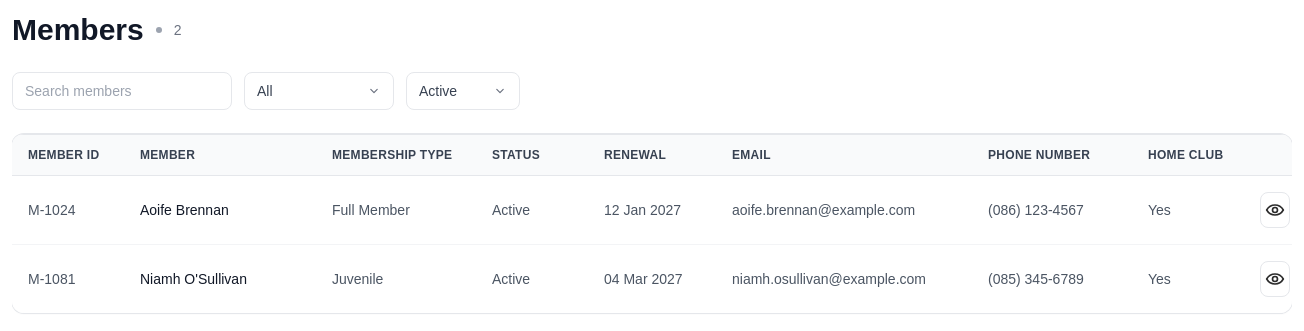
Test: MembersPage › rendering › should show only resigned members when the status filter is switched to resigned
The image size is (1304, 331).
Step 1. Select "Resigned" in the dropdown named "filter by status" → (463, 91), box x1=406 y1=72 x2=520 y2=110
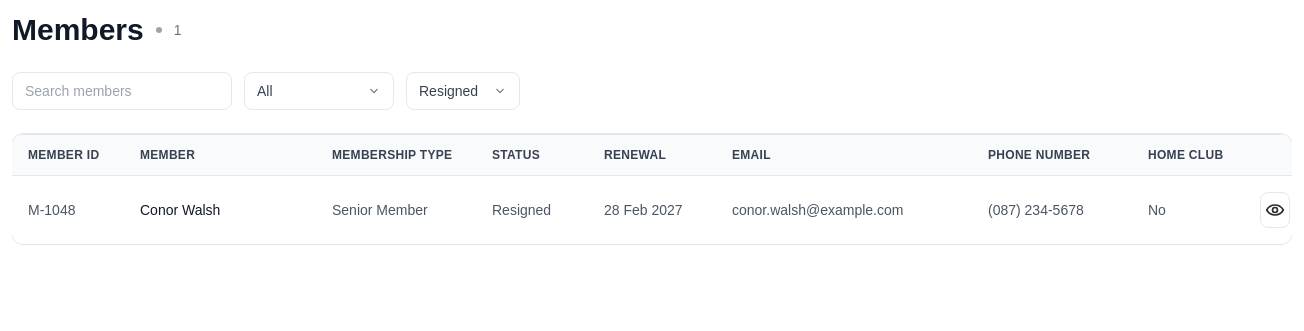
Result: the text "Conor Walsh" is shown at x1=124 y1=176 x2=316 y2=244
Result: the text "Aoife Brennan" is gone
Result: the text "Niamh O'Sullivan" is gone
